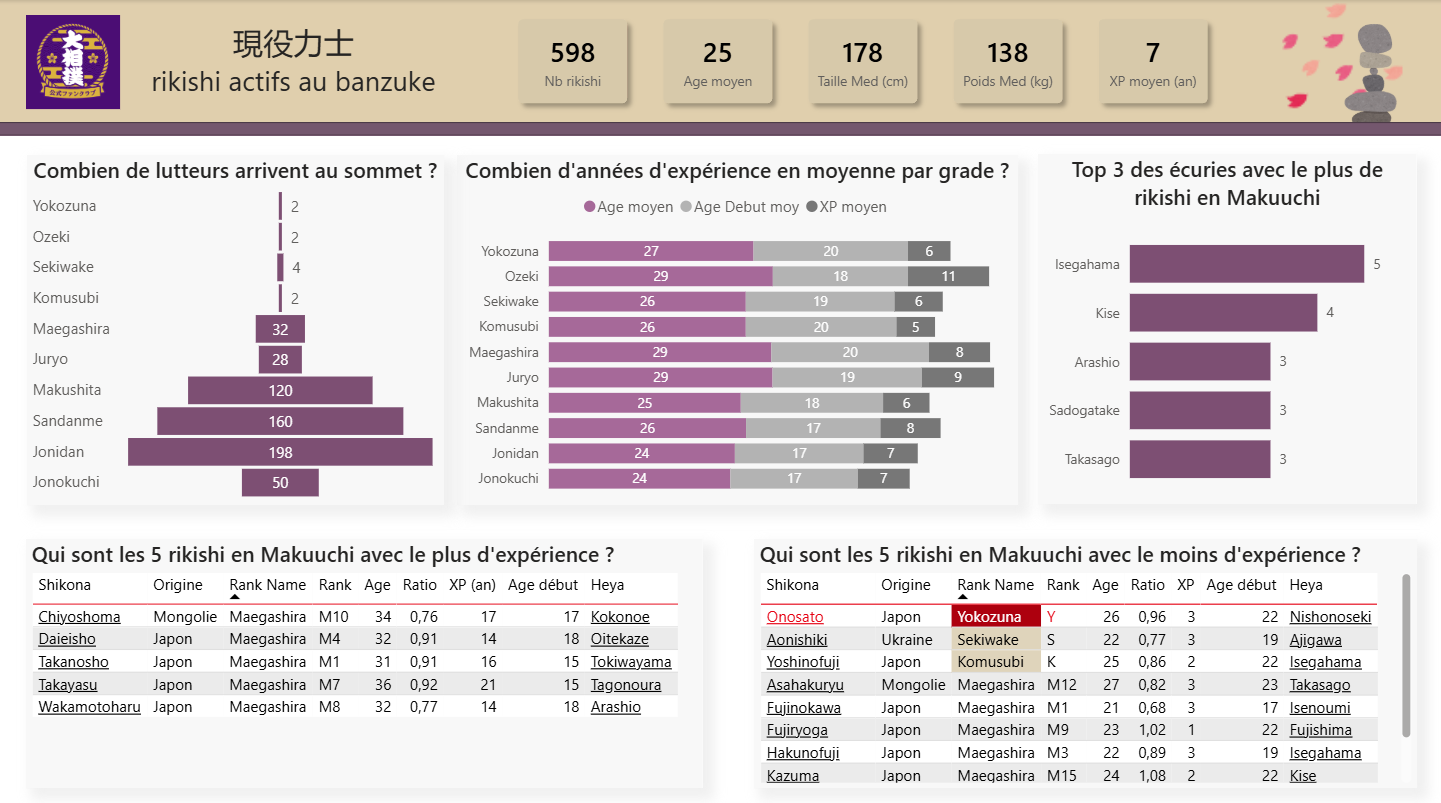

This screenshot's page, from the dashboard's own definition file:
{"tool":"powerbi","page":{"name":"Banzuke","canvas":[1280,720],"ordinal":0},"visuals":[{"type":"shape","box":[0,0,1280,109.4],"z":0,"group":"g1"},{"type":"image","box":[1096.1,0,183.4,108.9],"z":0,"group":"g2"},{"type":"image","box":[28.6,12.9,82.9,82.9],"z":0},{"type":"shape","box":[0,107.6,1280,12.1],"z":0,"group":"g3"},{"type":"group","id":"g1","title":"Groupe 1","box":[0,0,1280,108.9],"z":1000},{"type":"image","box":[28.6,13,82.9,83.7],"z":1000,"group":"g1"},{"type":"image","box":[1169.7,20.2,95.7,88.7],"z":1000,"group":"g2"},{"type":"group","id":"g2","title":"logoUp","box":[1096.1,0,183.9,108.5],"z":2000},{"type":"group","id":"g3","title":"séparationDB","box":[0,107.6,1280,12.1],"z":4000},{"type":"shape","box":[415.5,33.5,570.8,75.9],"z":5000},{"type":"cardVisual","fields":{"Data":["_Mesures.Nb rikishi","_Mesures.Age moyen","_Mesures.Taille Med","_Mesures.Poids Med","_Mesures.XP moyen"]},"box":[408.4,20.3,585.7,107.6],"z":6000},{"type":"textbox","box":[111.2,13.2,306.1,82.9],"z":7000},{"type":"barChart","title":"Combien d''années d''expérience en moyenne par grade ?","fields":{"Category":["Dim_Rank.Rank Name","Dim_Rank.DivisionName","Dim_Rank.SpecialRankName"],"Y":["_Mesures.Age moyen","_Mesures.Age Debut","_Mesures.XP moyen"]},"box":[408.1,136.4,494.9,308.9],"z":8000},{"type":"funnel","title":"Combien de lutteurs arrivent au sommet ?","fields":{"Category":["Dim_Rank.Rank Name","Dim_Rank.DivisionName","Dim_Rank.SpecialRankName"],"Y":["_Mesures.Nb rikishi"]},"box":[28.9,136.4,367.8,308.9],"z":9000},{"type":"tableEx","title":"Qui sont les 5 rikishi en Makuuchi avec le moins d''expérience ?","fields":{"Values":["Fact_Rikishi.shikonaEn","Dim_Region.pays","Dim_Rank.Rank Name","Dim_Rank.Rank","_Mesures.Age moyen","_Mesures.ratio","_Mesures.XP moyen","_Mesures.Age Debut","Dim_Heya.Heya"]},"box":[670.3,475.8,584.7,219.6],"z":10000},{"type":"tableEx","title":"Qui sont les 5 rikishi en Makuuchi avec le plus d''expérience ?","fields":{"Values":["Fact_Rikishi.shikonaEn","Dim_Region.pays","Dim_Rank.Rank Name","Dim_Rank.Rank","_Mesures.Age moyen","_Mesures.ratio","_Mesures.XP moyen","_Mesures.Age Debut","Dim_Heya.Heya"]},"box":[28.6,475.8,597.2,219.6],"z":11000},{"type":"barChart","title":"Top 3 des écuries avec le plus de rikishi en Makuuchi","fields":{"Category":["Dim_Heya.Heya"],"Y":["_Mesures.Nb rikishi"]},"box":[921,136.3,334.2,309.3],"z":12000}]}

Visuals, with their boxes in screenshot pixels (x1, y1, x2, y2), scaled from the page's 1280x720 canvas onto the 1441x803 screenshot:
shape: {"x1": 0, "y1": 0, "x2": 1440, "y2": 122}
image: {"x1": 1234, "y1": 0, "x2": 1440, "y2": 121}
image: {"x1": 32, "y1": 14, "x2": 126, "y2": 107}
shape: {"x1": 0, "y1": 120, "x2": 1440, "y2": 133}
"Groupe 1" group: {"x1": 0, "y1": 0, "x2": 1440, "y2": 121}
image: {"x1": 32, "y1": 14, "x2": 126, "y2": 108}
image: {"x1": 1317, "y1": 23, "x2": 1425, "y2": 121}
"logoUp" group: {"x1": 1234, "y1": 0, "x2": 1440, "y2": 121}
"séparationDB" group: {"x1": 0, "y1": 120, "x2": 1440, "y2": 133}
shape: {"x1": 468, "y1": 37, "x2": 1110, "y2": 122}
cardVisual - _Mesures.Nb rikishi x _Mesures.Age moyen: {"x1": 460, "y1": 23, "x2": 1119, "y2": 143}
textbox: {"x1": 125, "y1": 15, "x2": 470, "y2": 107}
"Combien d''années d''expérience en moyenne par grade ?" barChart: {"x1": 459, "y1": 152, "x2": 1017, "y2": 497}
"Combien de lutteurs arrivent au sommet ?" funnel: {"x1": 33, "y1": 152, "x2": 447, "y2": 497}
"Qui sont les 5 rikishi en Makuuchi avec le moins d''expérience ?" tableEx: {"x1": 755, "y1": 531, "x2": 1413, "y2": 776}
"Qui sont les 5 rikishi en Makuuchi avec le plus d''expérience ?" tableEx: {"x1": 32, "y1": 531, "x2": 705, "y2": 776}
"Top 3 des écuries avec le plus de rikishi en Makuuchi" barChart: {"x1": 1037, "y1": 152, "x2": 1413, "y2": 497}
